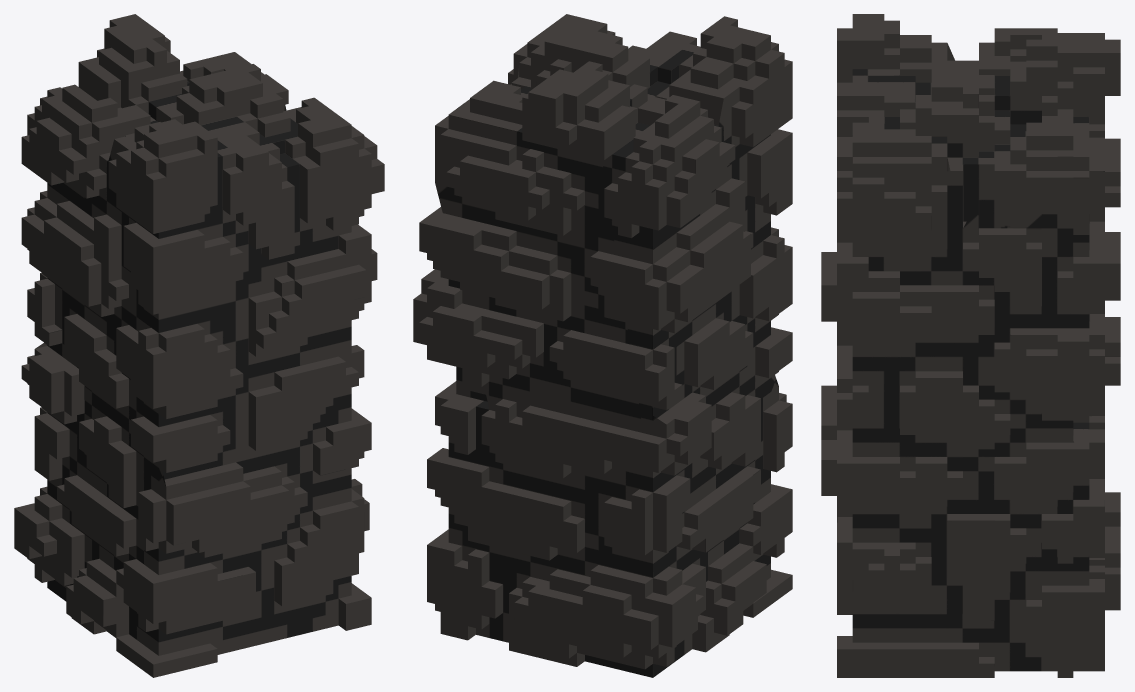
The model's file is Column_1.fbx.
The picture shows the model from 3 angles, left to right: view 1: azimuth 30°, elevation 25°; view 2: azimuth 150°, elevation 25°; view 3: azimuth 270°, elevation 25°; orthographic projection. The views are drawn at different scales.
Parts seen in each view (by area): view 1: Column_1; view 2: Column_1; view 3: Column_1.
Boxes of the visible parts, box(x1,y1,x2,y2) form: Column_1: box(14, 14, 384, 677); Column_1: box(413, 14, 792, 677); Column_1: box(821, 14, 1120, 677).
Size of the model in its own units: 190 by 400 by 190.
Materials: 1 (1 with a texture image).
